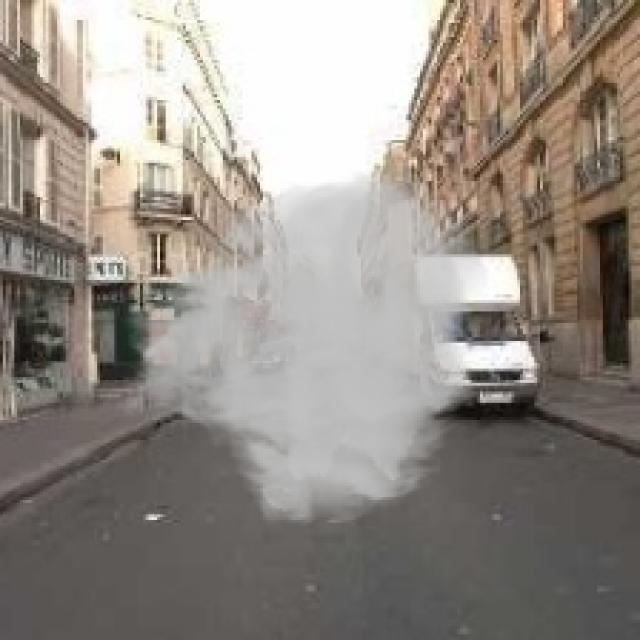Smoke: (114, 166, 492, 528)
